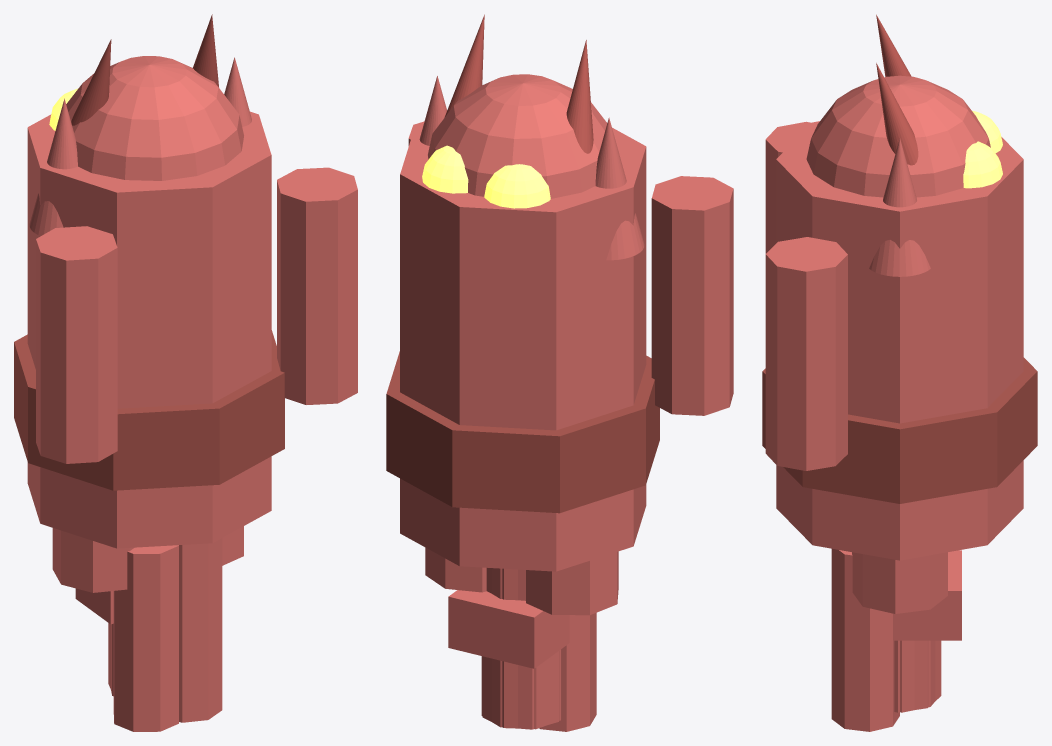
The model's file is enemy_knee_oni.glb.
3 renders of one model, left to right at view 1: azimuth 30°, elevation 25°; view 2: azimuth 150°, elevation 25°; view 3: azimuth 270°, elevation 25°, orthographic. The views are drawn at different scales.
Visible parts, largest first — view 1: torso, upper_arm_l, upper_arm_r, belt, head, forearm_r, forearm_l, thigh_l, ear_l, horn_l, horn_r, ear_r (+2 smaller); view 2: torso, belt, upper_arm_l, head, foot_l, thigh_l, forearm_r, shin_l, shin_r, ear_l, eye_l, horn_l (+4 smaller); view 3: torso, upper_arm_r, belt, head, forearm_l, thigh_r, foot_l, ear_r, upper_arm_l, shin_r, horn_r, shin_l (+3 smaller).
Part boxes in pixels (bbox=[...]): torso: bbox=[27, 111, 271, 548]; upper_arm_l: bbox=[36, 226, 117, 463]; upper_arm_r: bbox=[277, 167, 357, 404]; belt: bbox=[14, 330, 284, 490]; head: bbox=[66, 56, 243, 180]; forearm_r: bbox=[113, 545, 178, 731]; forearm_l: bbox=[179, 538, 222, 722]; thigh_l: bbox=[52, 528, 134, 592]; ear_l: bbox=[29, 98, 77, 235]; horn_l: bbox=[71, 39, 111, 125]; horn_r: bbox=[193, 14, 218, 87]; ear_r: bbox=[224, 57, 251, 126]; torso: bbox=[400, 127, 646, 571]; belt: bbox=[386, 351, 659, 513]; upper_arm_l: bbox=[651, 176, 733, 415]; head: bbox=[428, 74, 607, 198]; foot_l: bbox=[448, 590, 569, 668]; thigh_l: bbox=[526, 551, 618, 615]; forearm_r: bbox=[539, 613, 596, 731]; shin_l: bbox=[482, 568, 561, 729]; shin_r: bbox=[481, 568, 559, 729]; ear_l: bbox=[595, 117, 644, 260]; eye_l: bbox=[484, 164, 550, 208]; horn_l: bbox=[566, 40, 593, 153]; torso: bbox=[776, 121, 1023, 560]; upper_arm_r: bbox=[765, 237, 847, 470]; belt: bbox=[762, 357, 1037, 503]; head: bbox=[806, 75, 990, 197]; forearm_l: bbox=[831, 548, 899, 731]; thigh_r: bbox=[852, 552, 947, 613]; foot_l: bbox=[893, 550, 961, 640]; ear_r: bbox=[869, 138, 930, 276]; upper_arm_l: bbox=[765, 121, 811, 253]; shin_r: bbox=[894, 640, 941, 712]; horn_r: bbox=[876, 63, 918, 165]; shin_l: bbox=[900, 640, 935, 712].
Bounding box in the file's own units: 0.5161 × 1.07 × 0.4.
